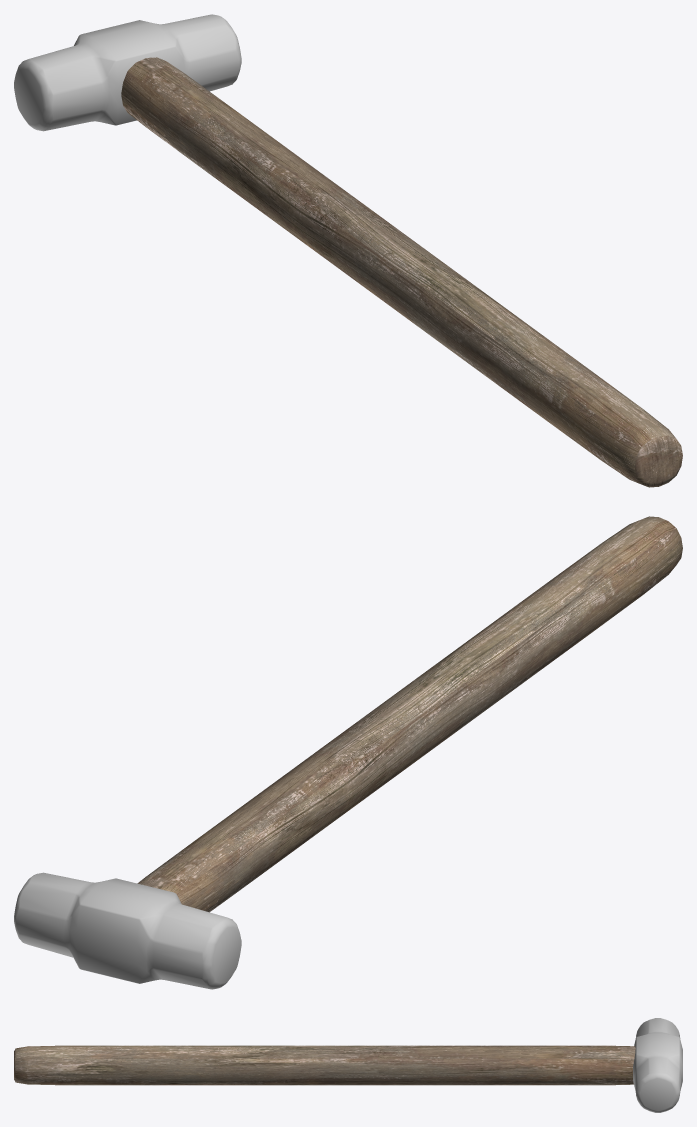
Rendered from SM_Sledge_Hammer.fbx.
3 renders of one model, top to bottom at view 1: azimuth 30°, elevation 25°; view 2: azimuth 150°, elevation 25°; view 3: azimuth 270°, elevation 25°, orthographic. The views are drawn at different scales.
Visible parts, largest first — view 1: SM_Sledge_Hammer_LOD0; view 2: SM_Sledge_Hammer_LOD0; view 3: SM_Sledge_Hammer_LOD0.
Boxes of the visible parts, x1,y1,x2,y2 form: SM_Sledge_Hammer_LOD0: (14, 14, 682, 487); SM_Sledge_Hammer_LOD0: (14, 516, 682, 989); SM_Sledge_Hammer_LOD0: (14, 1018, 682, 1112).
Bounding box in the file's own units: 17.52 × 84.78 × 6.38.
